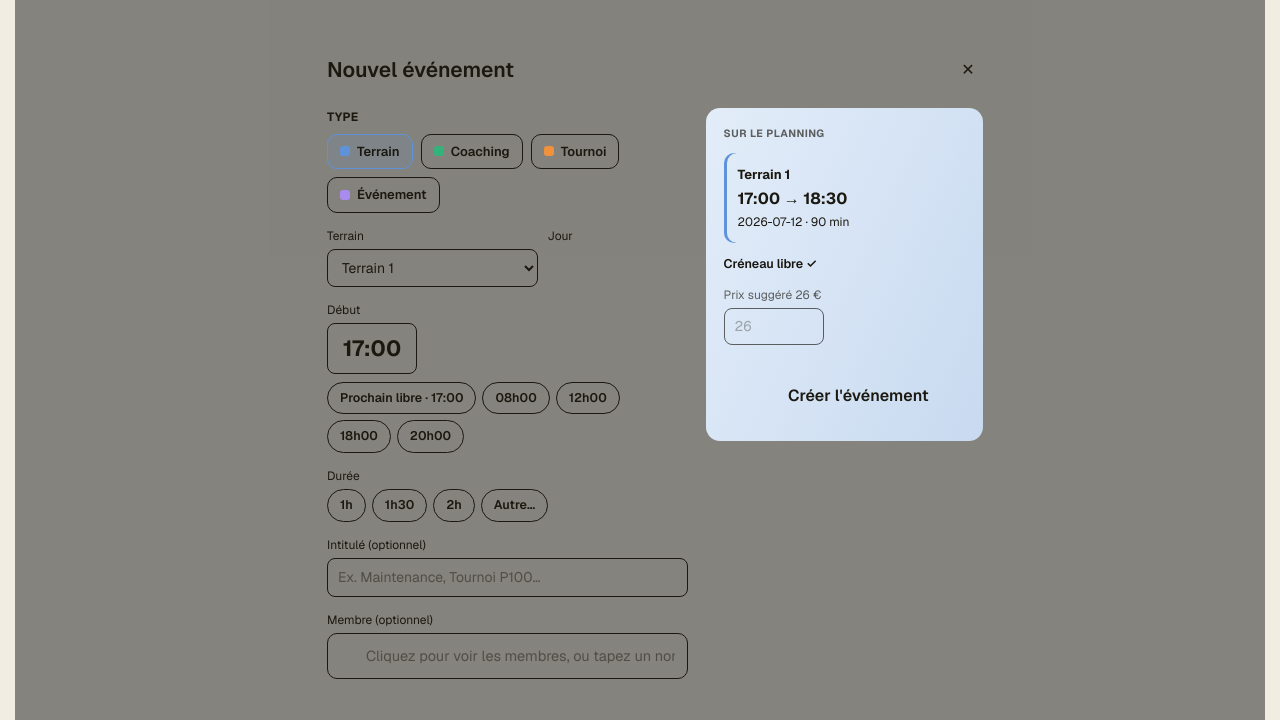
it: CreateEventModal — saisie clavier de l'heure › une saisie invalide au blur ne modifie pas l'heure
Replace the text in the field showing "17:00" with "abc" at (372, 348), box [327,322,417,374]
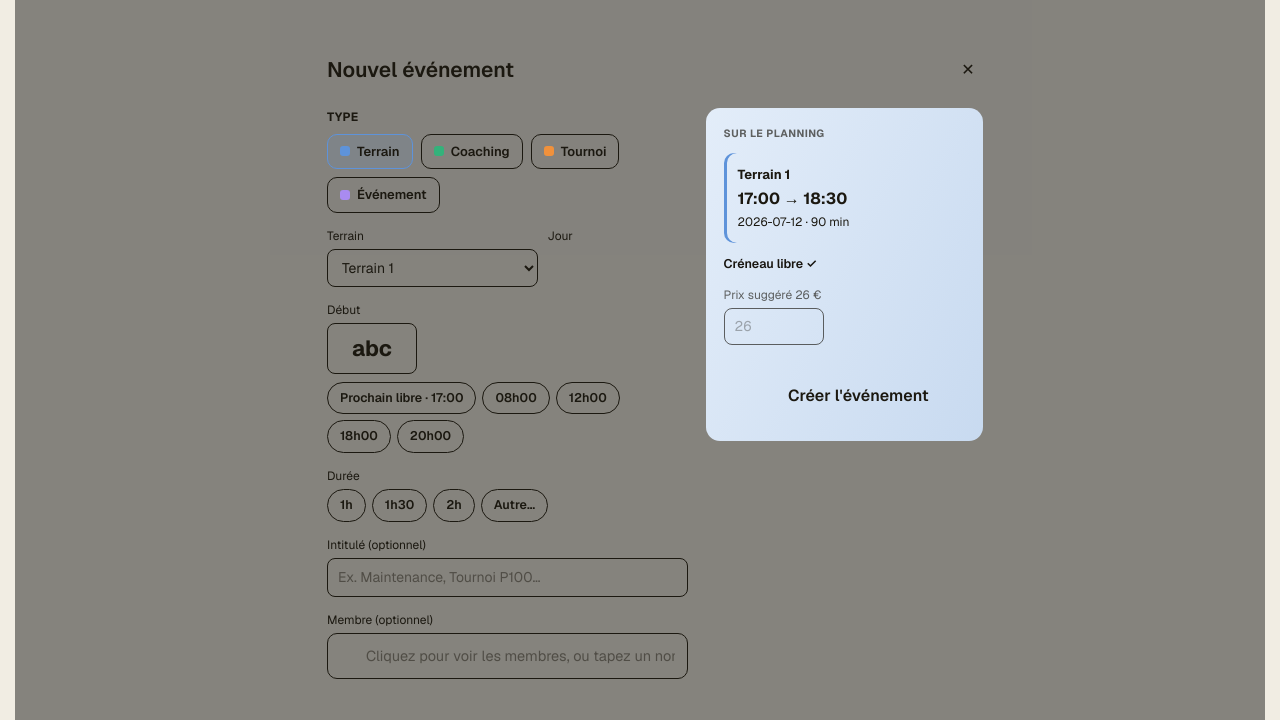
Leave the field showing "17:00", box [327,322,417,374]
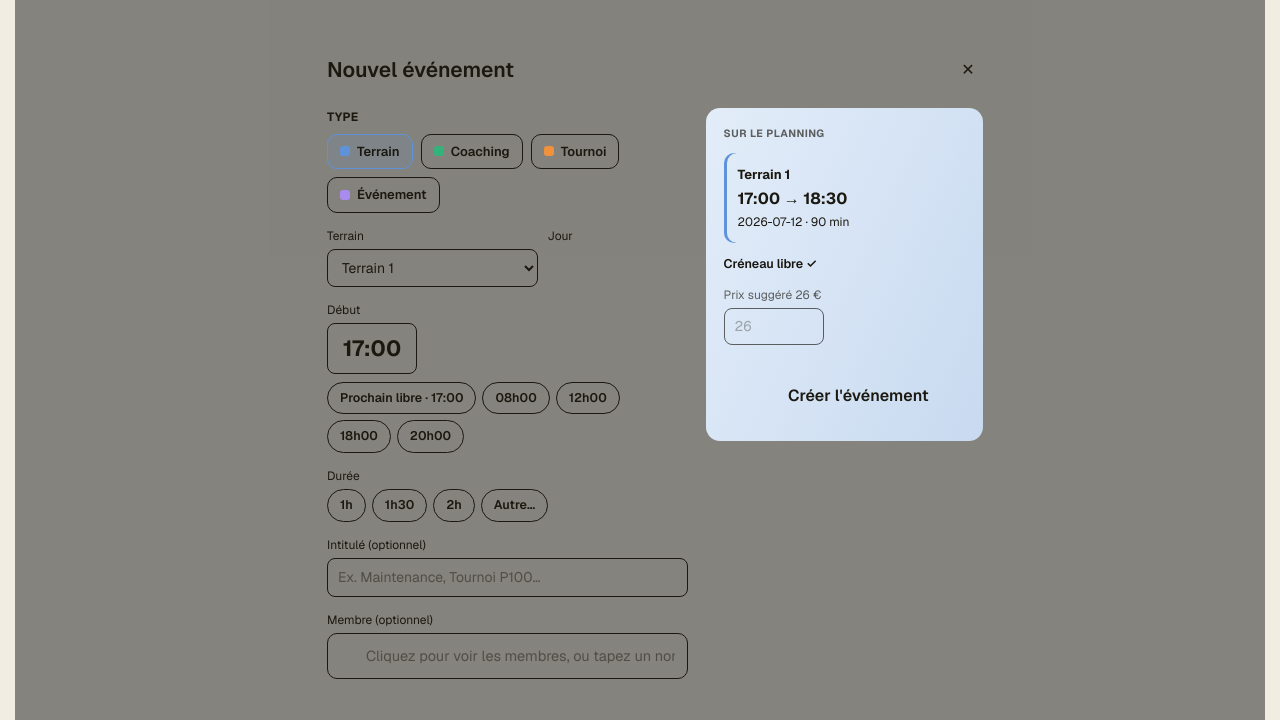
Check: the field showing "17:00" is shown, box [327,322,417,374]
